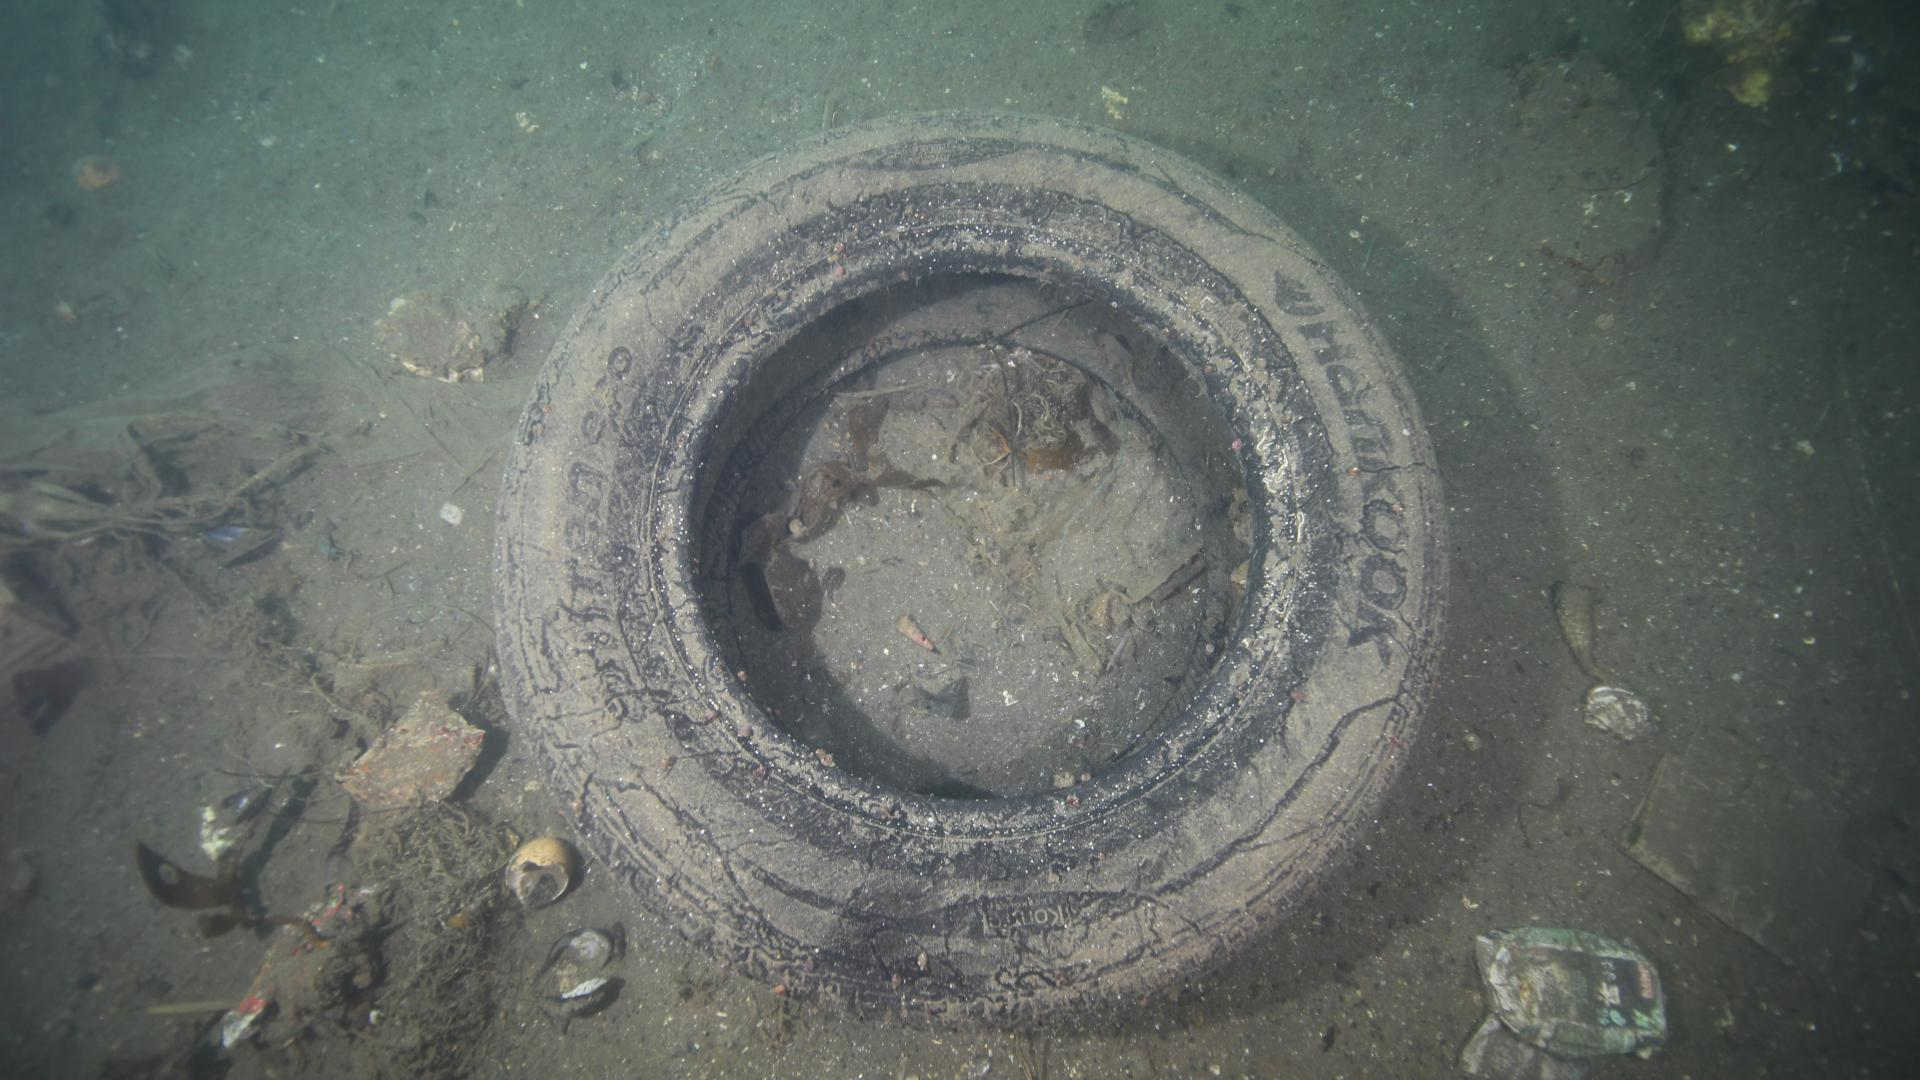tire: (483, 108, 1455, 1027)
